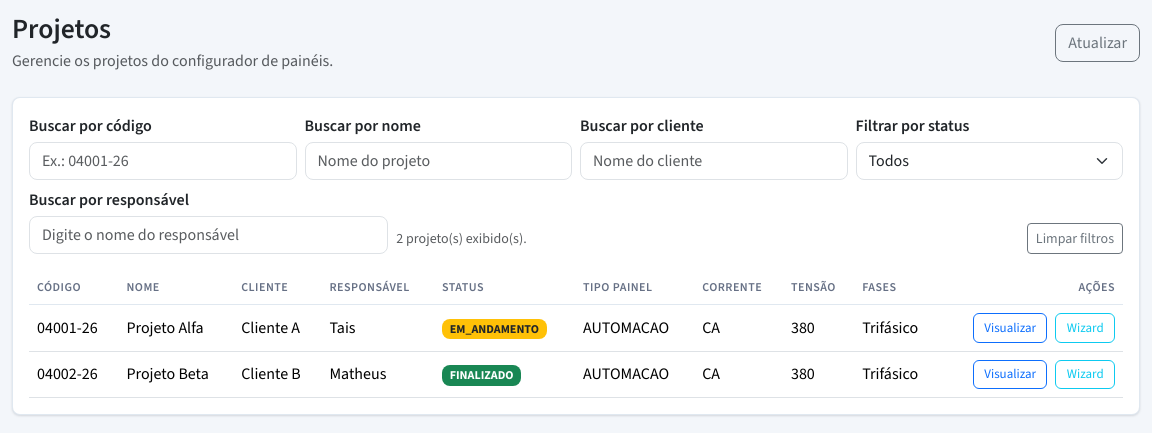
Test: ProjetoListPage › limpa todos os filtros ao clicar em limpar filtros
The image size is (1152, 433).
Type "beta" into the field labelled "Buscar por nome" at (438, 161), box [304, 142, 572, 180]
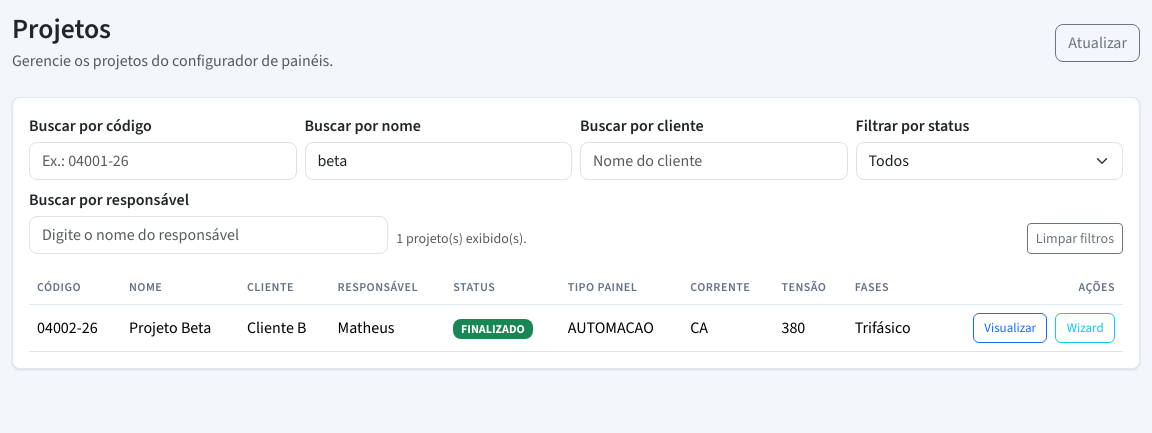
Select "Finalizado" in the dropdown labelled "Filtrar por status" at (989, 161), box [856, 142, 1123, 180]
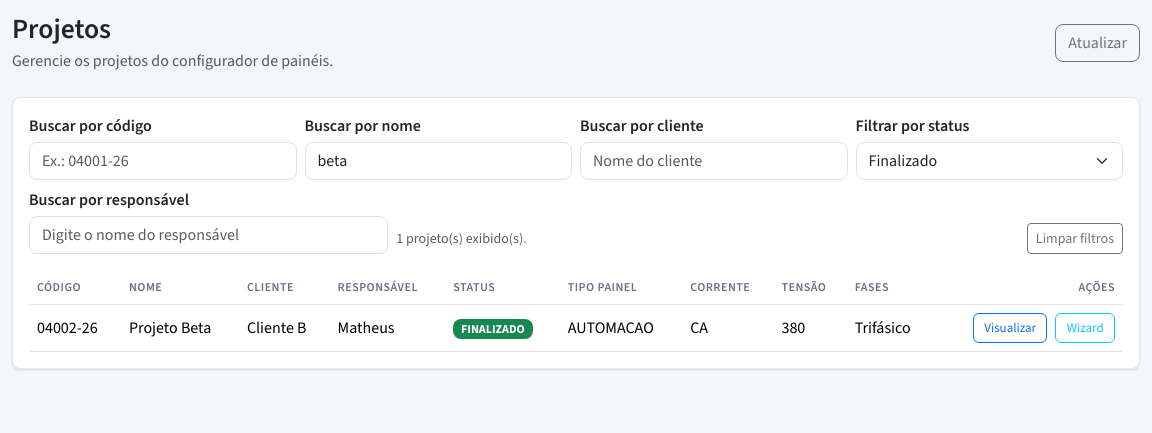
Check: the text "Projeto Beta" is shown, box [121, 305, 239, 351]
Check: the text "Projeto Alfa" is not shown
Click the button "Limpar filtros" at (1075, 239), box [1027, 223, 1123, 254]
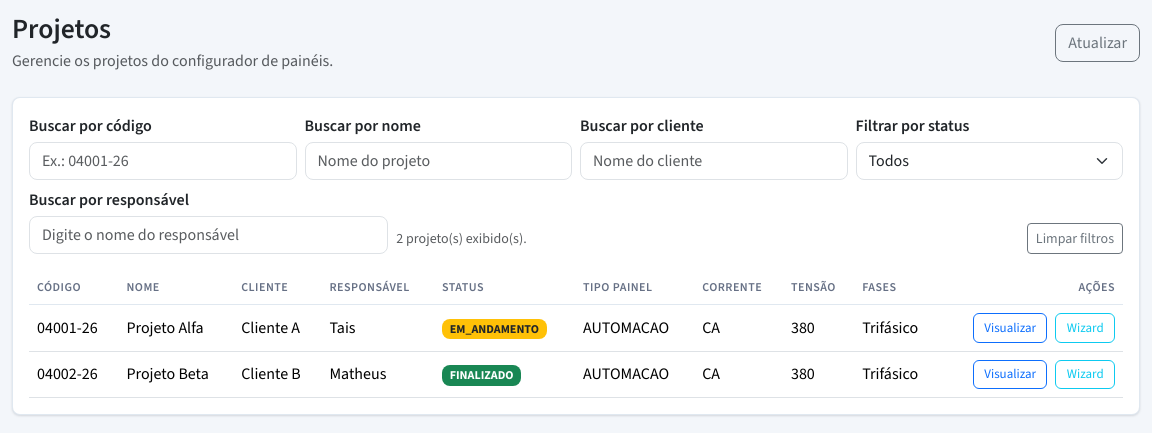
Check: the text "Projeto Beta" is shown, box [118, 351, 233, 398]
Check: the field labelled "Buscar por nome" is empty, box [304, 142, 572, 180]
Check: the text "Projeto Alfa" is shown, box [118, 305, 233, 351]
